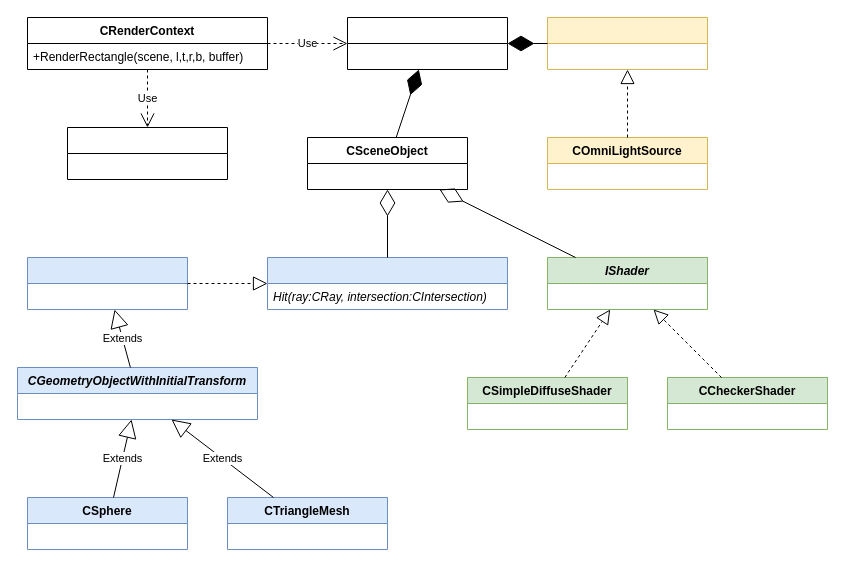
This 845x567 diagram has some shape labels left out. Here are the shapes that lost their labels. From the top down, the box of each, then its label:
(346, 16, 508, 70): CScene
(546, 16, 708, 70): ILightSource
(66, 126, 228, 180): IColorBuffer
(26, 256, 188, 310): CGeometryObjectImpl
(266, 256, 508, 310): IGeometryObject
